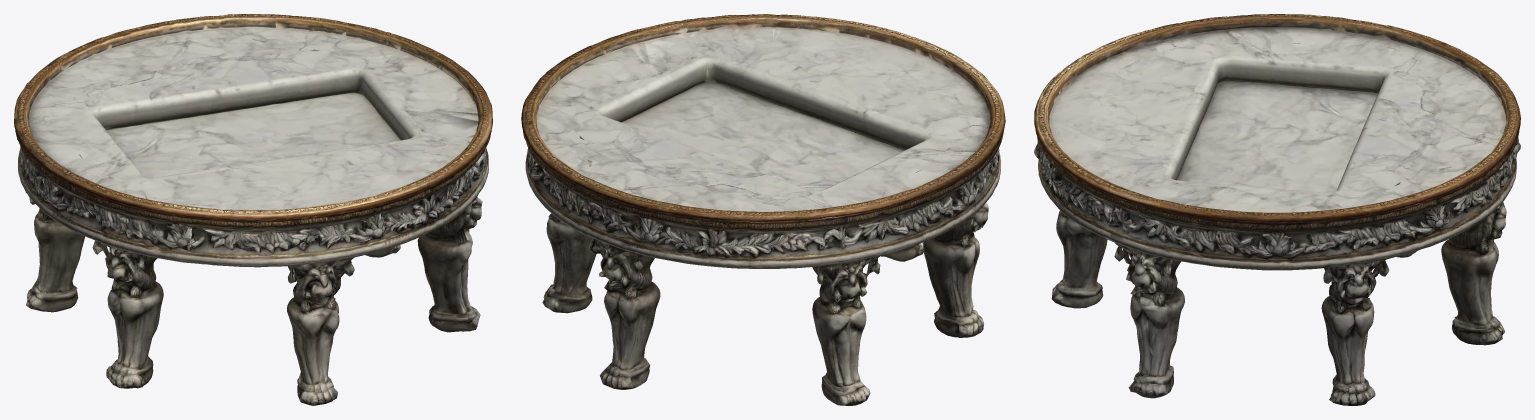
Rendered from roman-table.glb.
3 views of the same model, side by side, from view 1: azimuth 30°, elevation 25°; view 2: azimuth 150°, elevation 25°; view 3: azimuth 270°, elevation 25° (orthographic).
Parts seen in each view (by area): view 1: tripo_node_a8e44748-37ab-46ec-8edb-2001933d98f8; view 2: tripo_node_a8e44748-37ab-46ec-8edb-2001933d98f8; view 3: tripo_node_a8e44748-37ab-46ec-8edb-2001933d98f8.
Part boxes in pixels (x1,y1,x2,y2): tripo_node_a8e44748-37ab-46ec-8edb-2001933d98f8: [14, 14, 492, 405]; tripo_node_a8e44748-37ab-46ec-8edb-2001933d98f8: [521, 14, 1005, 405]; tripo_node_a8e44748-37ab-46ec-8edb-2001933d98f8: [1034, 14, 1520, 405].
Size of the model in its own units: 0.9783 by 0.4576 by 0.9793.
Materials: 1 (1 with a texture image).
